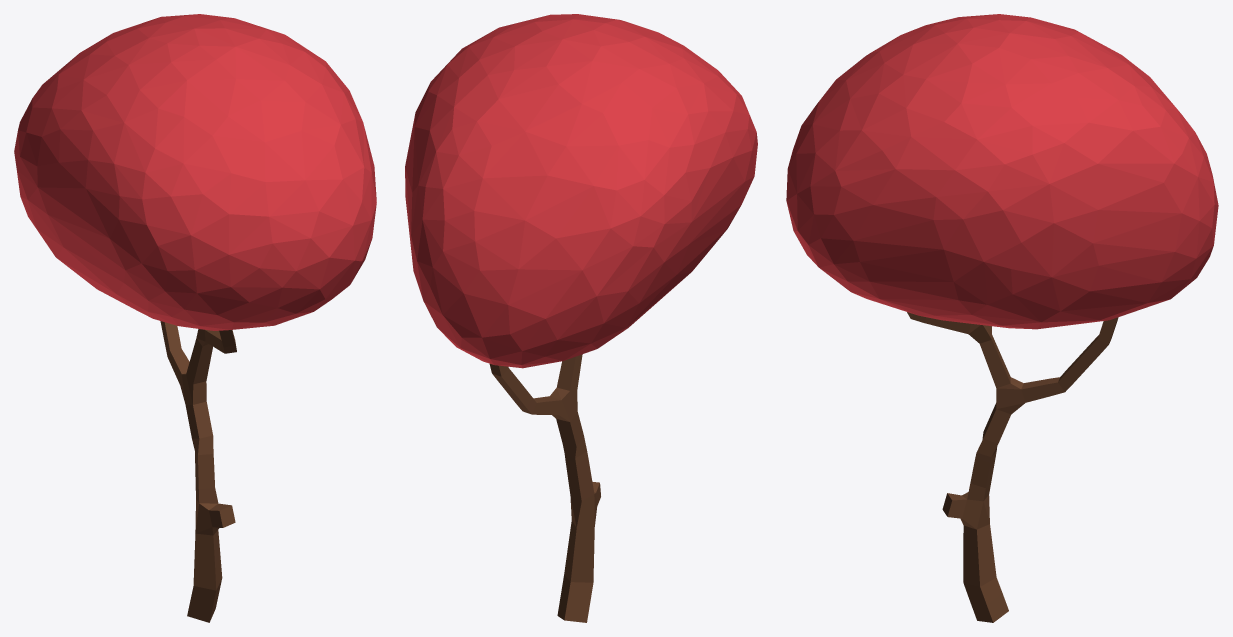
The model's file is SlimRedTree (1).fbx.
3 views of the same model, side by side, from view 1: azimuth 30°, elevation 25°; view 2: azimuth 150°, elevation 25°; view 3: azimuth 270°, elevation 25° (orthographic).
Parts seen in each view (by area): view 1: Plane; view 2: Plane; view 3: Plane.
Boxes of the visible parts, bbox=[...] form: Plane: bbox=[14, 14, 376, 622]; Plane: bbox=[405, 14, 757, 622]; Plane: bbox=[786, 14, 1218, 622].
Bounding box in the file's own units: 166 × 329 × 219.
